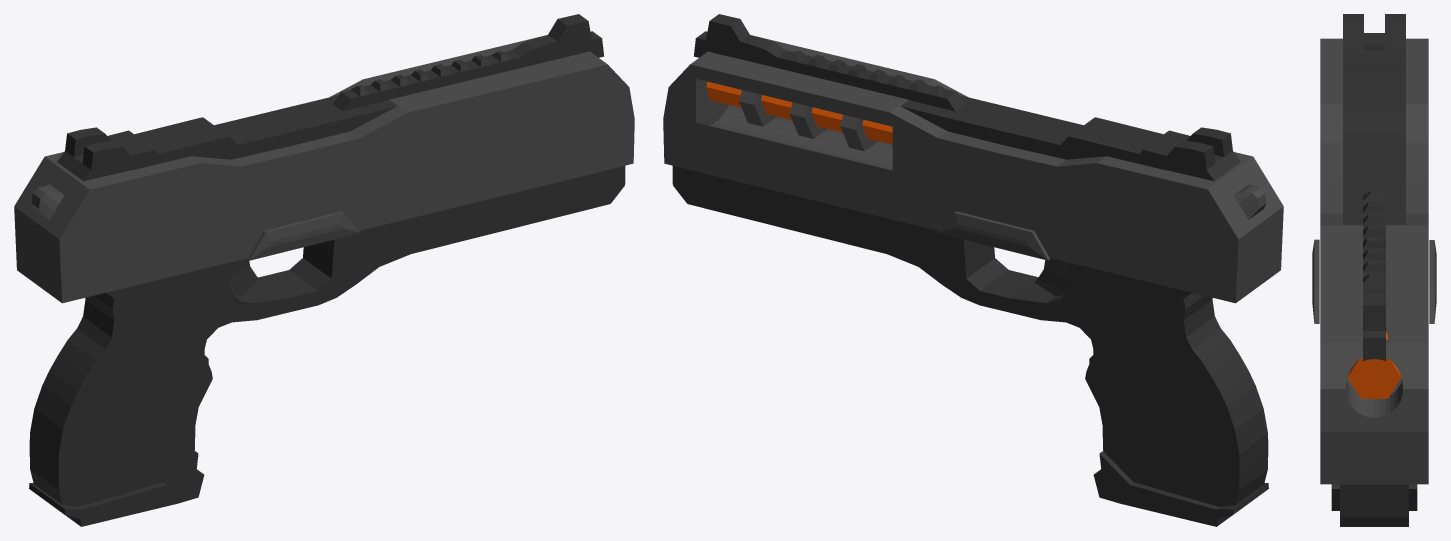
The model's file is Pistol.fbx.
The picture shows the model from 3 angles, left to right: view 1: azimuth 30°, elevation 25°; view 2: azimuth 150°, elevation 25°; view 3: azimuth 270°, elevation 25°; orthographic projection. The views are drawn at different scales.
Visible parts, largest first — view 1: Cube.006; view 2: Cube.006; view 3: Cube.006.
Part boxes in pixels (x1,y1,x2,y2): Cube.006: (14,14,634,526); Cube.006: (663,14,1283,526); Cube.006: (1312,14,1436,526).
Size of the model in its own units: 228 by 140 by 35.53.
